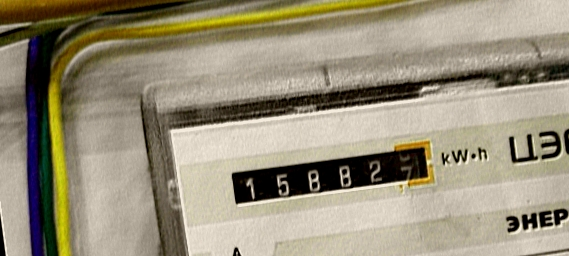1: (244, 174, 259, 201)
2: (367, 157, 386, 184)
5: (275, 171, 292, 198)
7: (399, 162, 416, 181)
8: (306, 166, 325, 193), (337, 162, 355, 189)
screen: (221, 134, 446, 219)
